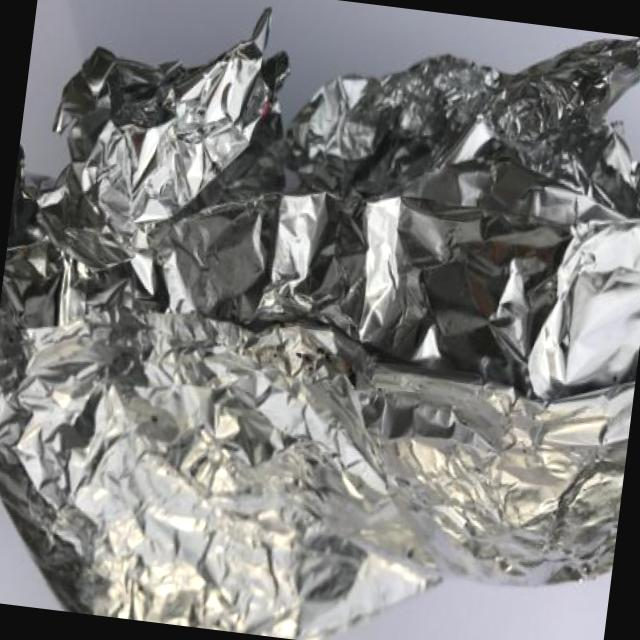nhom: (0, 6, 640, 640)
